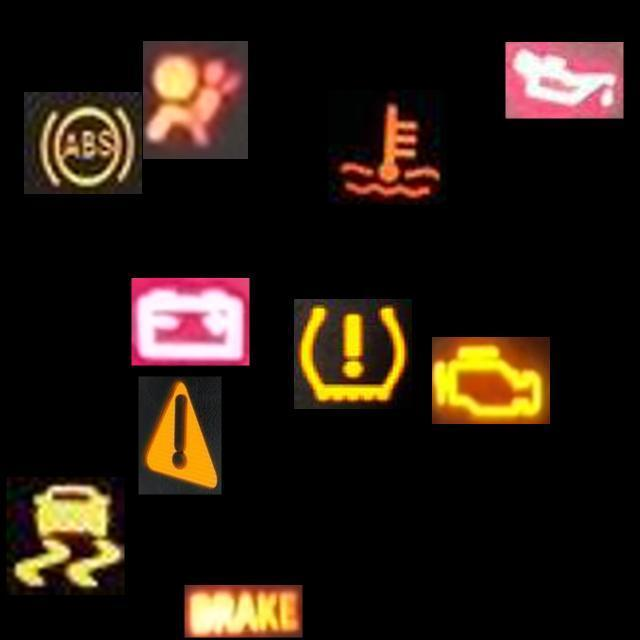Central Warning lamp: (138, 376, 222, 494)
Engine cooling system: (328, 90, 446, 204)
